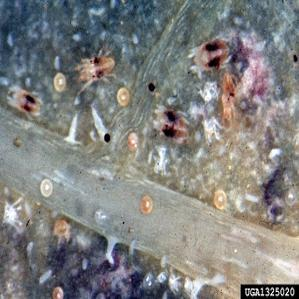spider mite: (169, 34, 236, 87), (61, 41, 119, 93), (4, 71, 54, 129), (144, 95, 194, 147)
